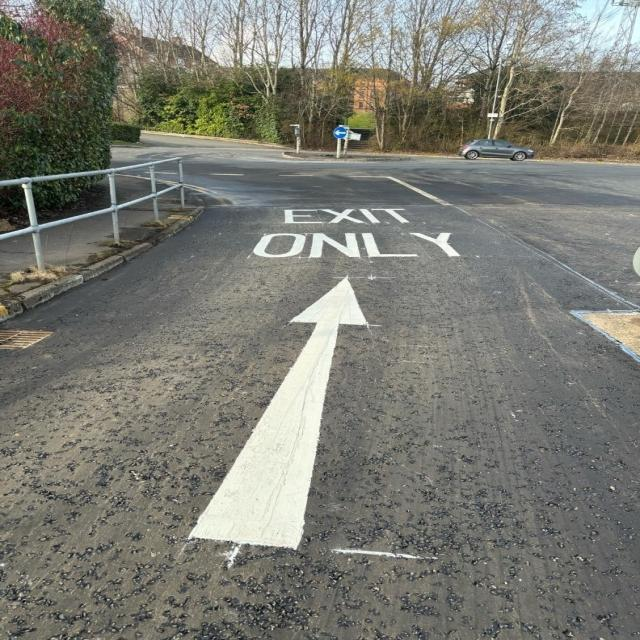road_oneway: (195, 280, 369, 547)
